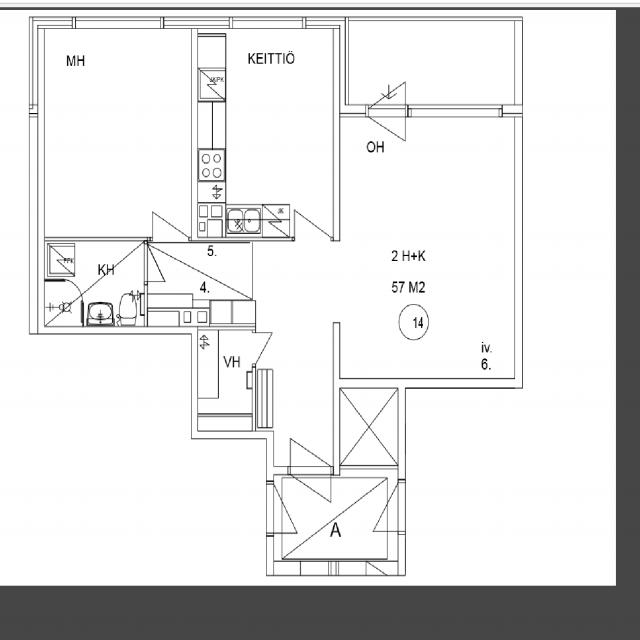door: (289, 466, 331, 526), (289, 415, 331, 474), (365, 58, 405, 118), (365, 105, 405, 165), (151, 192, 188, 241), (144, 244, 180, 282), (251, 332, 282, 364)
